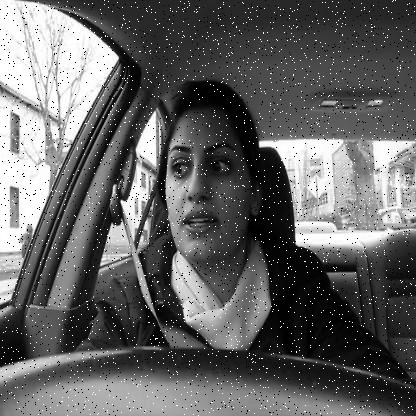seatbelt: (108, 60, 271, 349)
